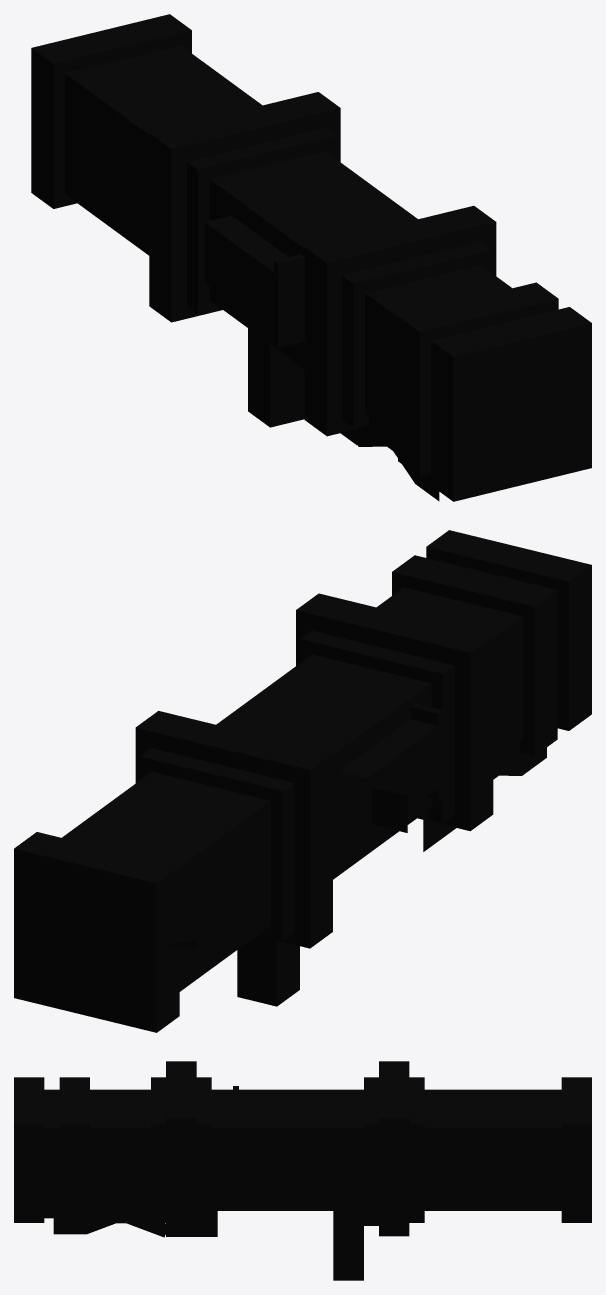
Rendered from jeg_rocket_launcher.glb.
3 views of the same model, one above another, from view 1: azimuth 30°, elevation 25°; view 2: azimuth 150°, elevation 25°; view 3: azimuth 270°, elevation 25° (orthographic). The views are drawn at different scales.
Visible parts, largest first — view 1: Gun; view 2: Gun; view 3: Gun.
Boxes of the visible parts, <box> form: Gun: <box>31,14,591,501</box>; Gun: <box>14,530,591,1032</box>; Gun: <box>14,1061,591,1280</box>.
Bounding box in the file's own units: 0.2584 × 0.3266 × 0.9263.
1 material, 1 textured.
